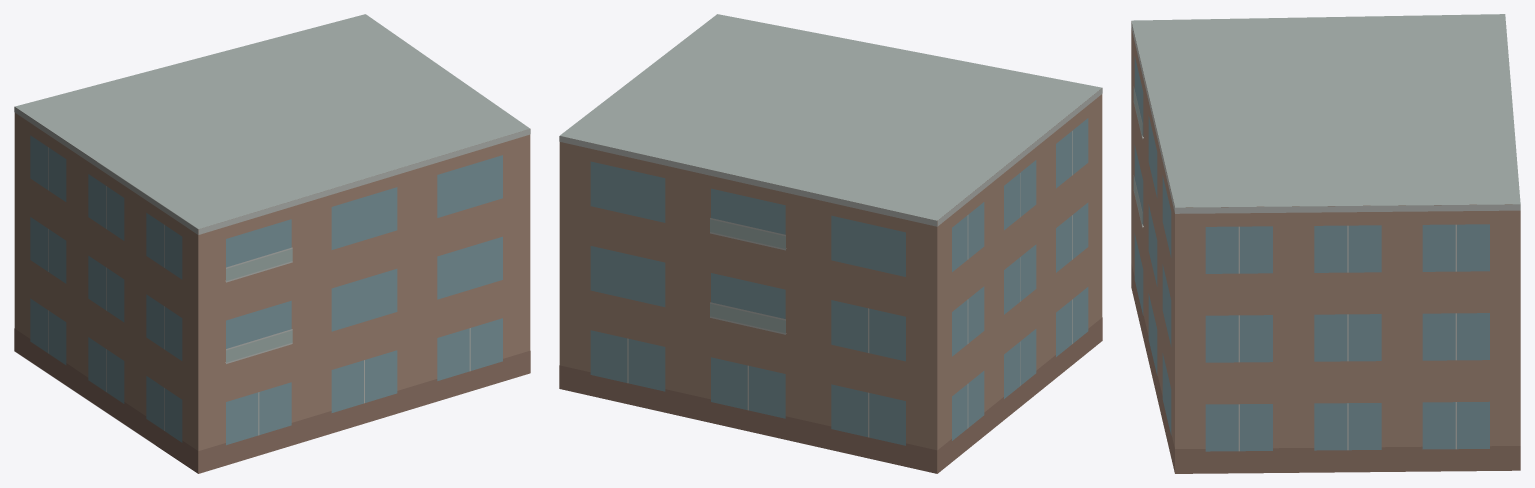
Rendered from survey-upis-33000096.glb.
The picture shows the model from 3 angles, left to right: view 1: azimuth 30°, elevation 25°; view 2: azimuth 150°, elevation 25°; view 3: azimuth 270°, elevation 25°; orthographic projection. The views are drawn at different scales.
Parts seen in each view (by area): view 1: survey-upis-33000096.tmp; view 2: survey-upis-33000096.tmp; view 3: survey-upis-33000096.tmp.
Part boxes in pixels (box(x1,y1,x2,y2)): survey-upis-33000096.tmp: box(14, 14, 530, 473); survey-upis-33000096.tmp: box(559, 14, 1102, 473); survey-upis-33000096.tmp: box(1131, 14, 1520, 473).
Bounding box in the file's own units: 16.06 × 10.3 × 13.66.
